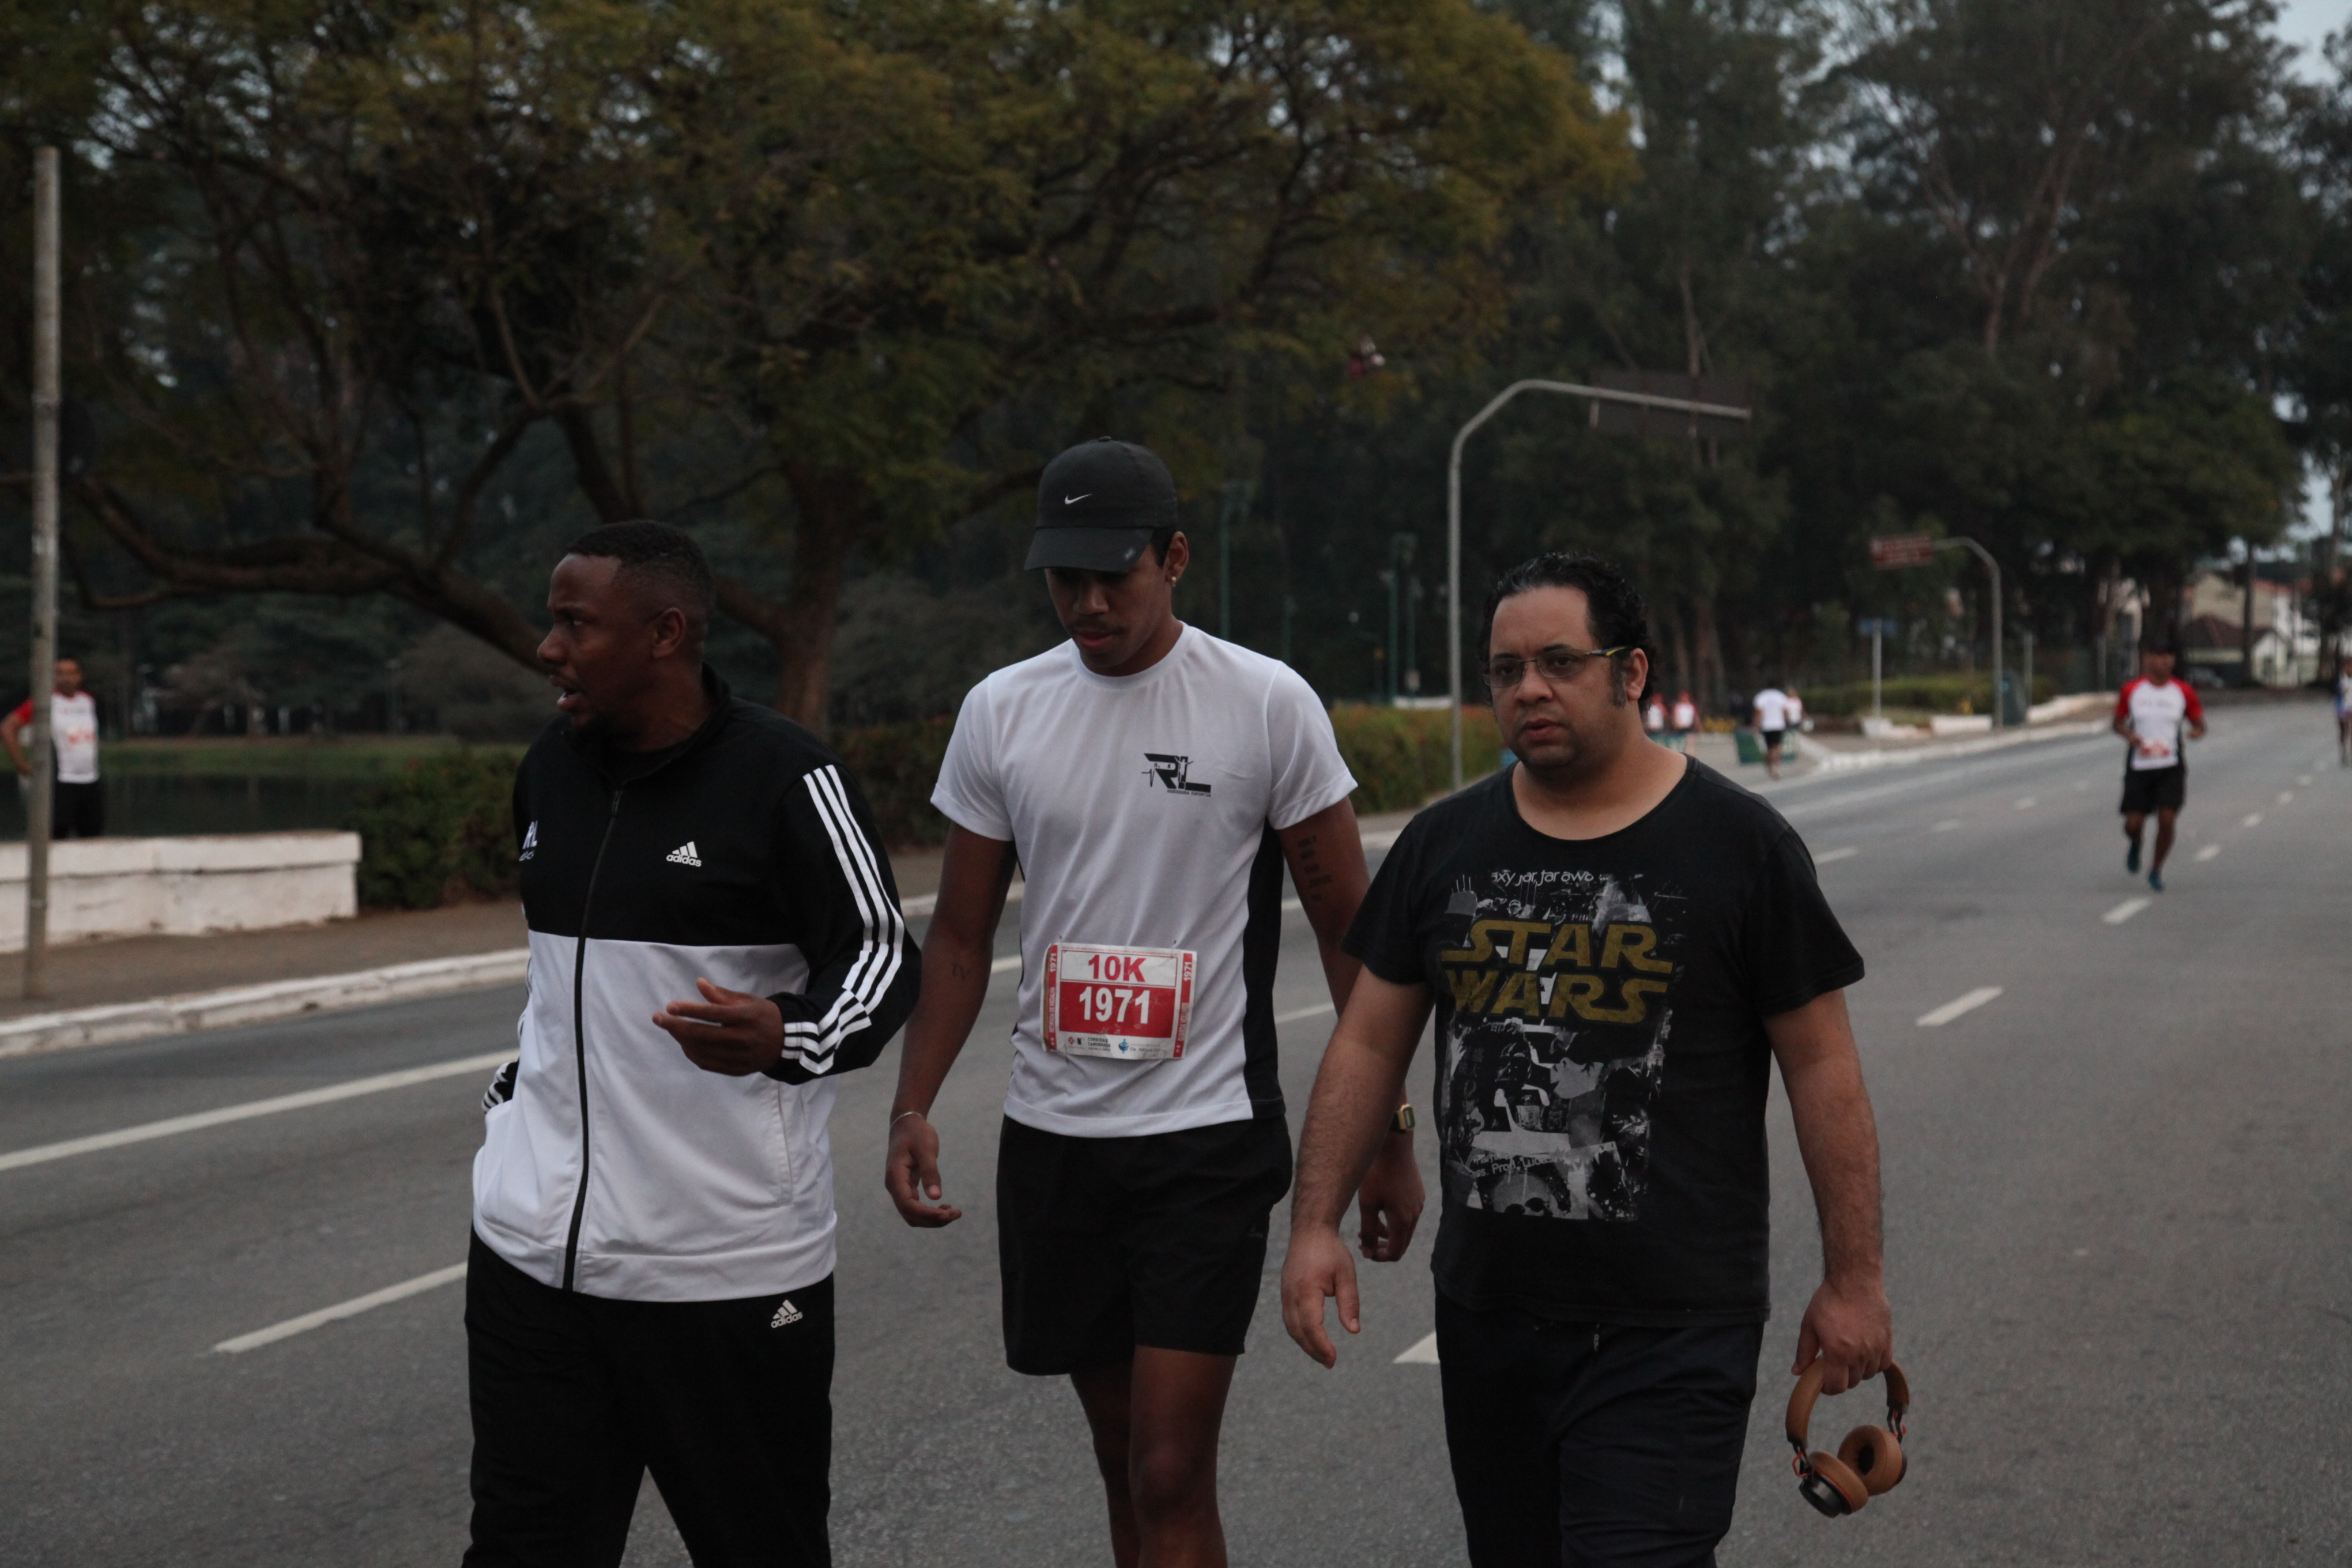bibtag: (1036, 927, 1200, 1087)
